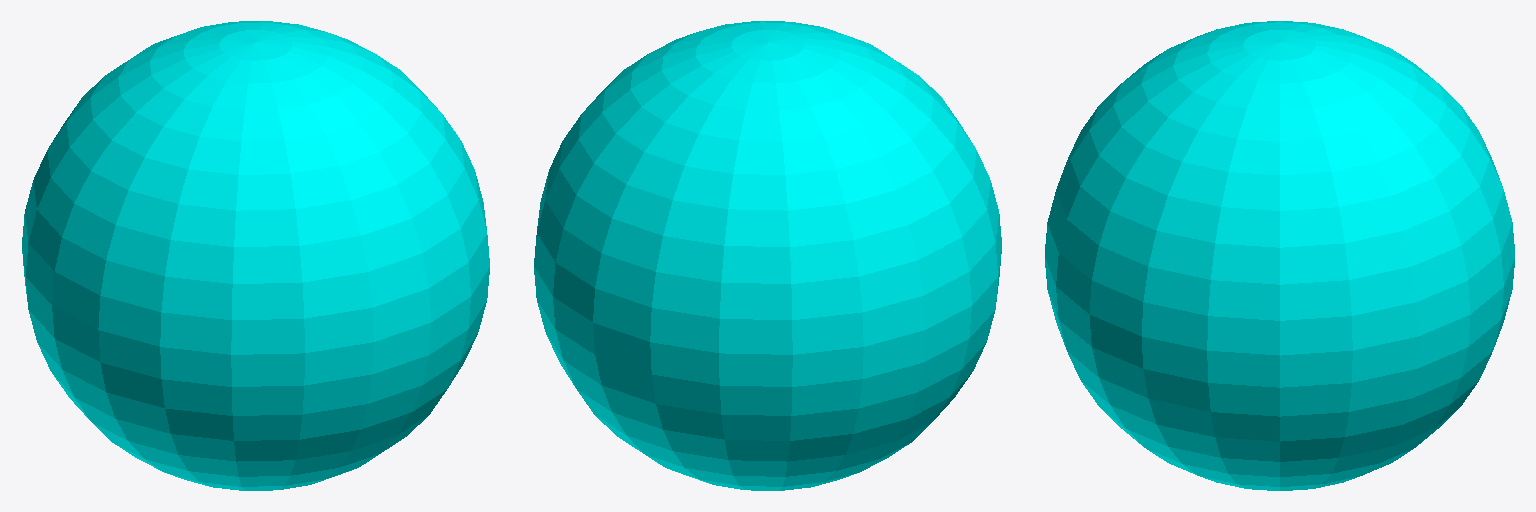
The model's file is goal.obj.
3 renders of one model, left to right at view 1: azimuth 30°, elevation 25°; view 2: azimuth 150°, elevation 25°; view 3: azimuth 270°, elevation 25°, orthographic.
Visible parts, largest first — view 1: master_99_goal; view 2: master_99_goal; view 3: master_99_goal.
Boxes of the visible parts, <box> form: master_99_goal: <box>22,21,489,490</box>; master_99_goal: <box>534,21,1001,490</box>; master_99_goal: <box>1045,21,1514,490</box>.
Bounding box in the file's own units: 2 × 2 × 2.